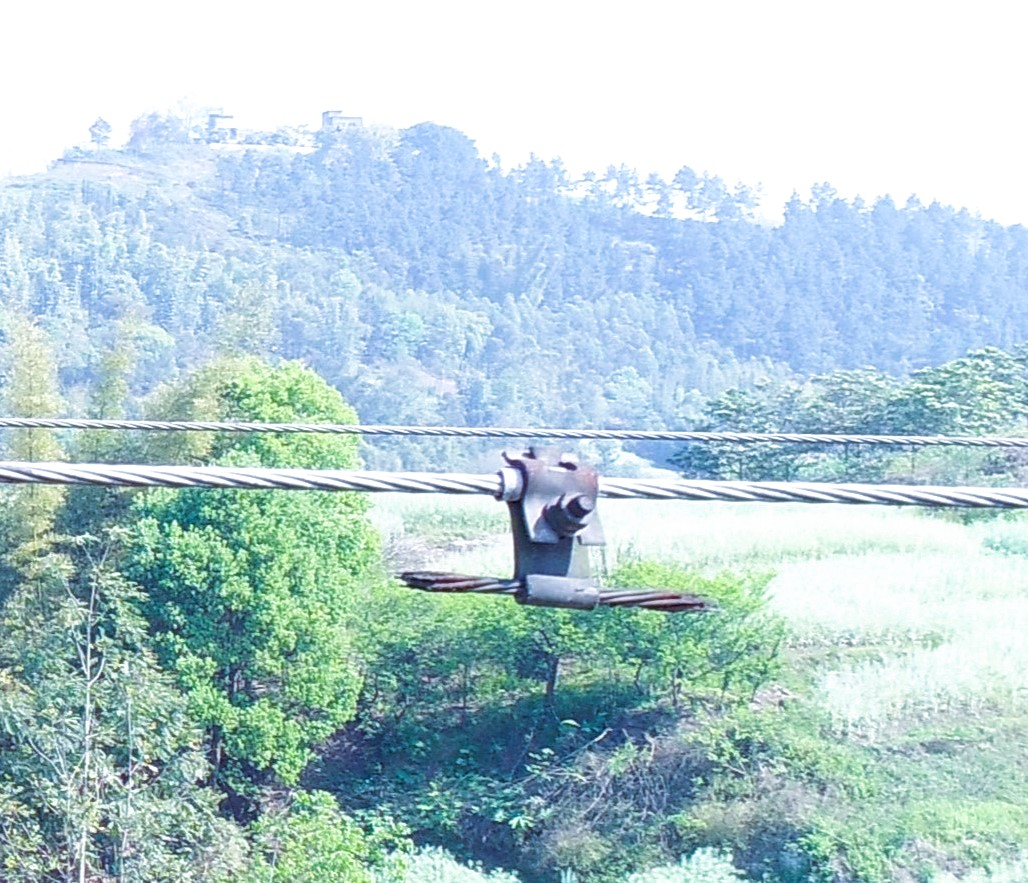Damage of shockproof hammer: (374, 432, 733, 636)
